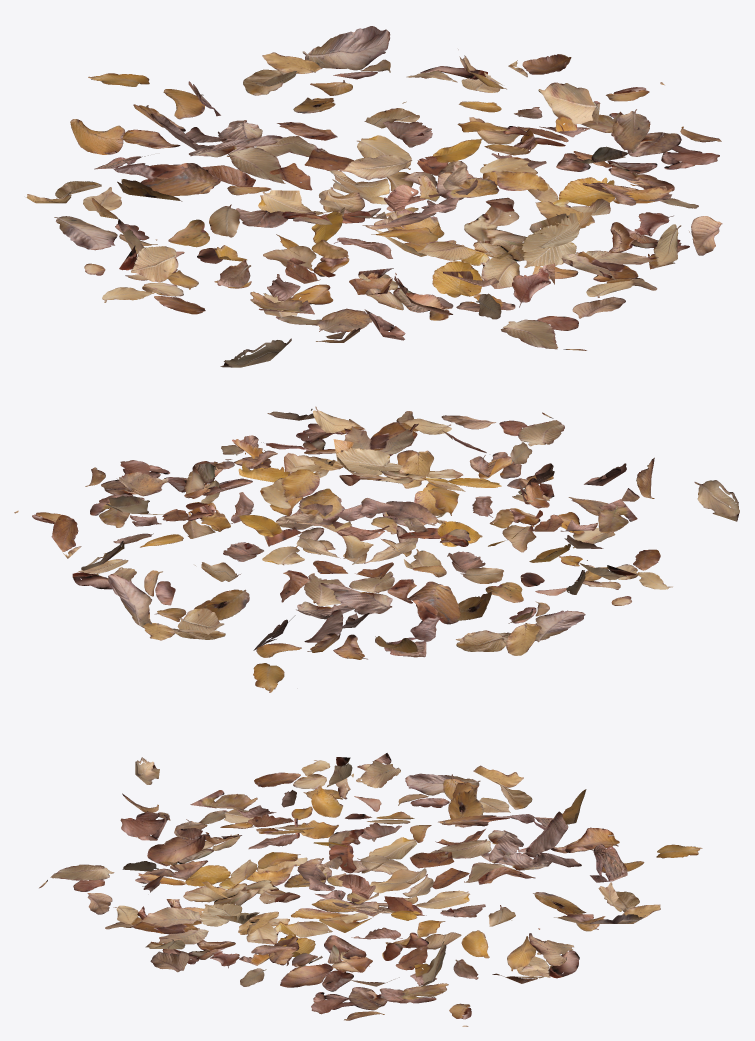
File: SM_Leaves_Ground_01.fbx
3 renders of one model, top to bottom at view 1: azimuth 30°, elevation 25°; view 2: azimuth 150°, elevation 25°; view 3: azimuth 270°, elevation 25°, orthographic. The views are drawn at different scales.
Parts seen in each view (by area): view 1: SM_Leaves_Ground_01; view 2: SM_Leaves_Ground_01; view 3: SM_Leaves_Ground_01.
Boxes of the visible parts, x1=… form: SM_Leaves_Ground_01: x1=26, y1=26, x2=722, y2=367; SM_Leaves_Ground_01: x1=14, y1=406, x2=739, y2=692; SM_Leaves_Ground_01: x1=39, y1=753, x2=702, y2=1026.
Size of the model in its own units: 181 by 191 by 12.46.
Materials: 1 (1 with a texture image).
